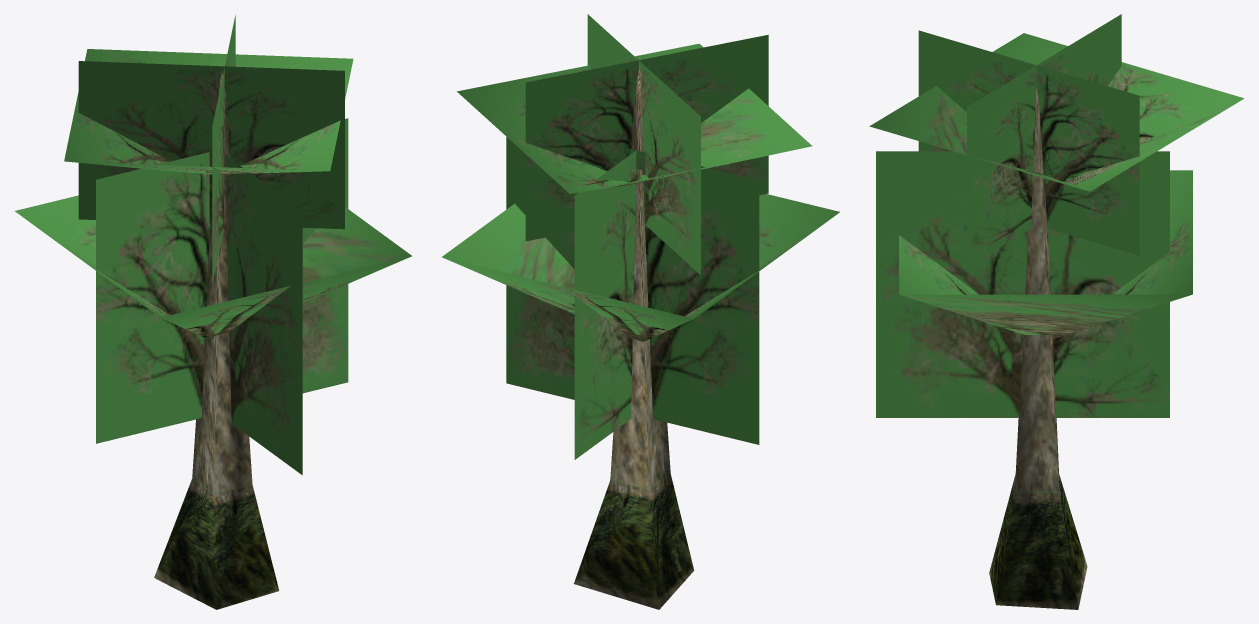
File: decd_brown_l2.fbx
The picture shows the model from 3 angles, left to right: view 1: azimuth 30°, elevation 25°; view 2: azimuth 150°, elevation 25°; view 3: azimuth 270°, elevation 25°; orthographic projection.
Parts seen in each view (by area): view 1: mesh_node; view 2: mesh_node; view 3: mesh_node.
Part boxes in pixels (left/top/right/bottom): mesh_node: left=15, top=15, right=411, bottom=609; mesh_node: left=441, top=14, right=839, bottom=609; mesh_node: left=869, top=14, right=1244, bottom=609.
Bounding box in the file's own units: 15.4 × 23.68 × 15.4.
2 materials, 2 textured.
